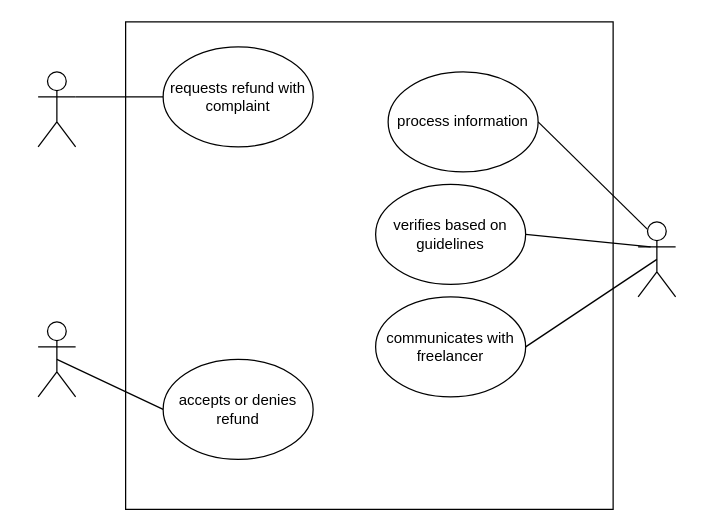
The diagram is 710 pixels wide and 531 high, and some of its shapes have lost their labels. The shapes that lost their labels are listed below. From the top down, each one's box as (x1, y1, x2, y2) in pixels, then its label:
(37, 71, 76, 147): Client
(637, 221, 676, 297): Database
(37, 321, 76, 397): Freelancer
